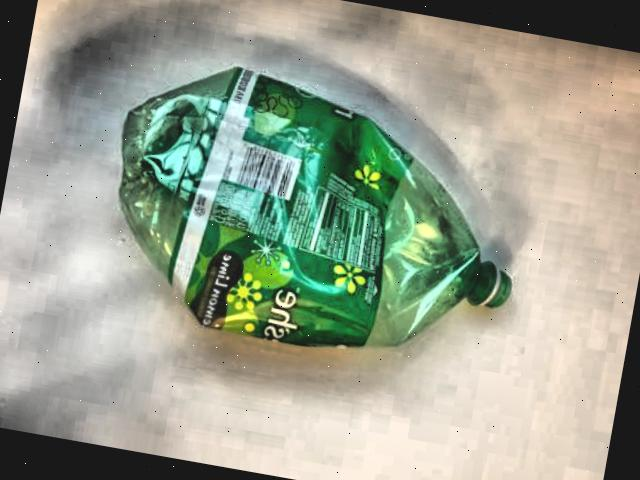Bottles: (79, 36, 546, 394)
